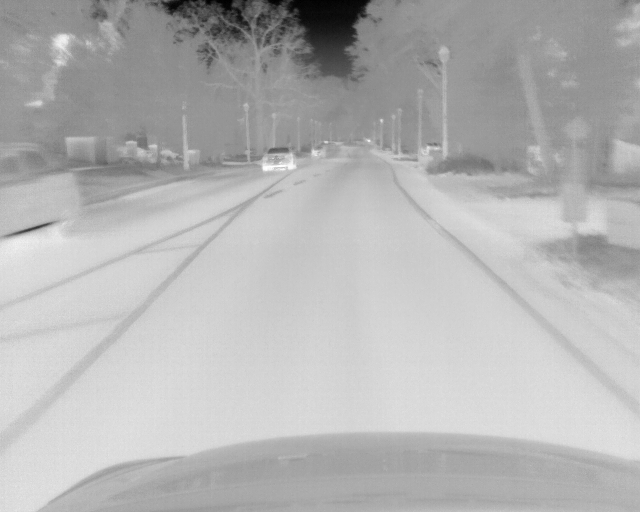car: (1, 142, 84, 241), (260, 145, 298, 172), (311, 141, 335, 158)
